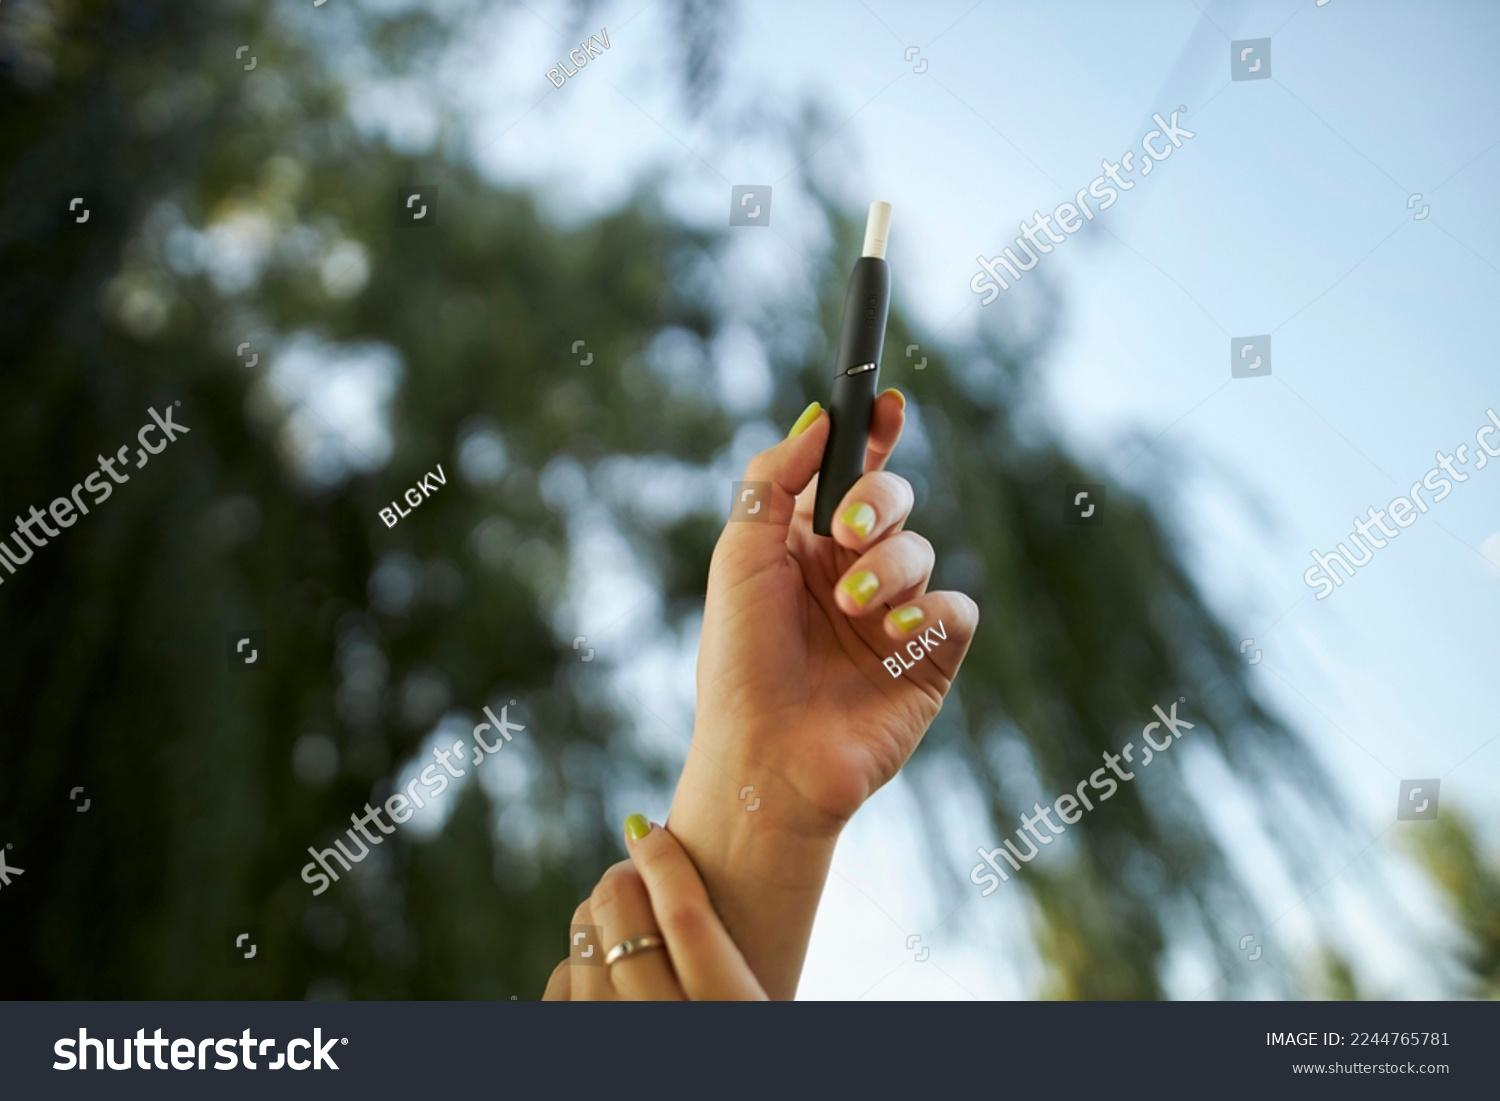iqos: (813, 202, 890, 535)
